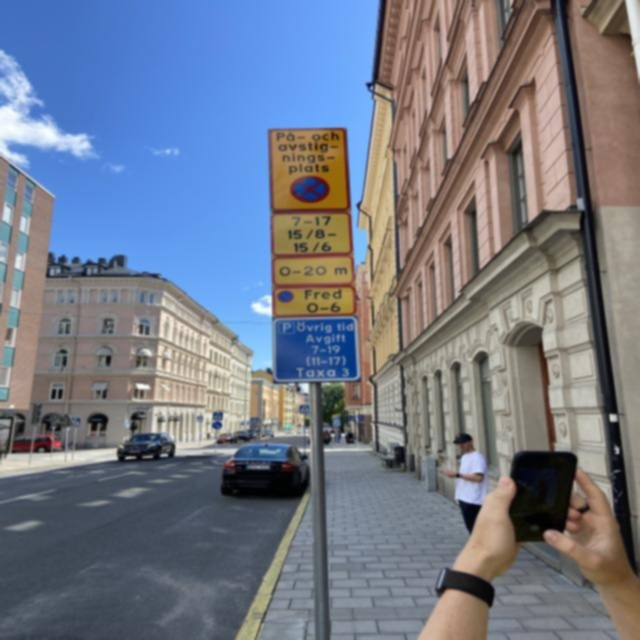avstignnigsplats: (267, 125, 350, 212)
